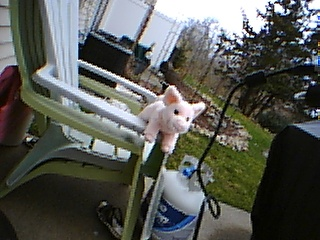piggy: (137, 83, 207, 156)
